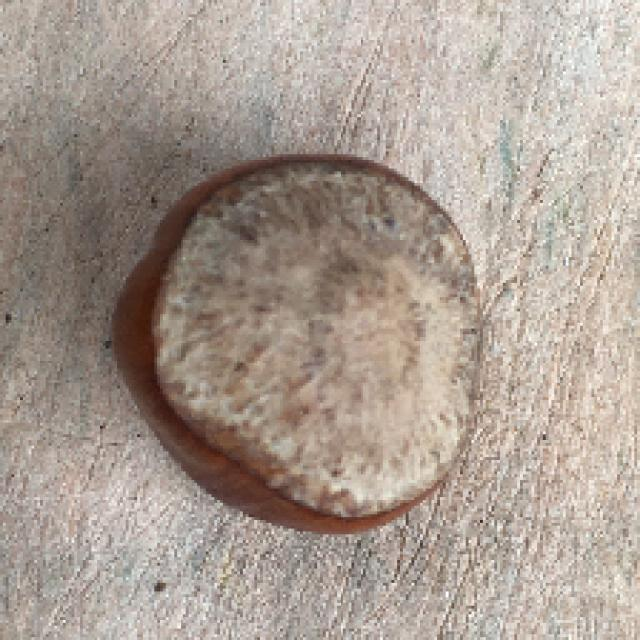qualityHazelnut: (94, 132, 510, 545)
